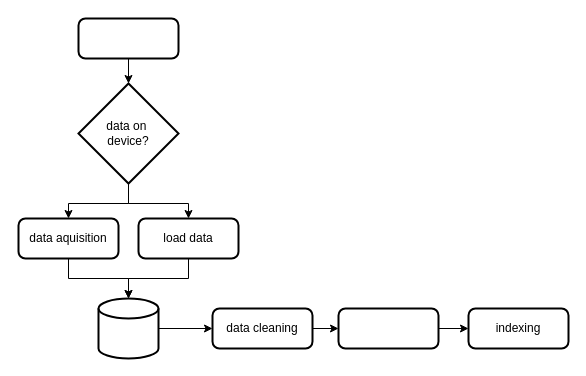
This 586x376 diagram has some shape labels left out. Here are the shapes that lost their labels. From the top down, the centre of each, then its label:
At point 128,38: "config".
At point 128,328: "data".
At point 388,328: "schema creation".
